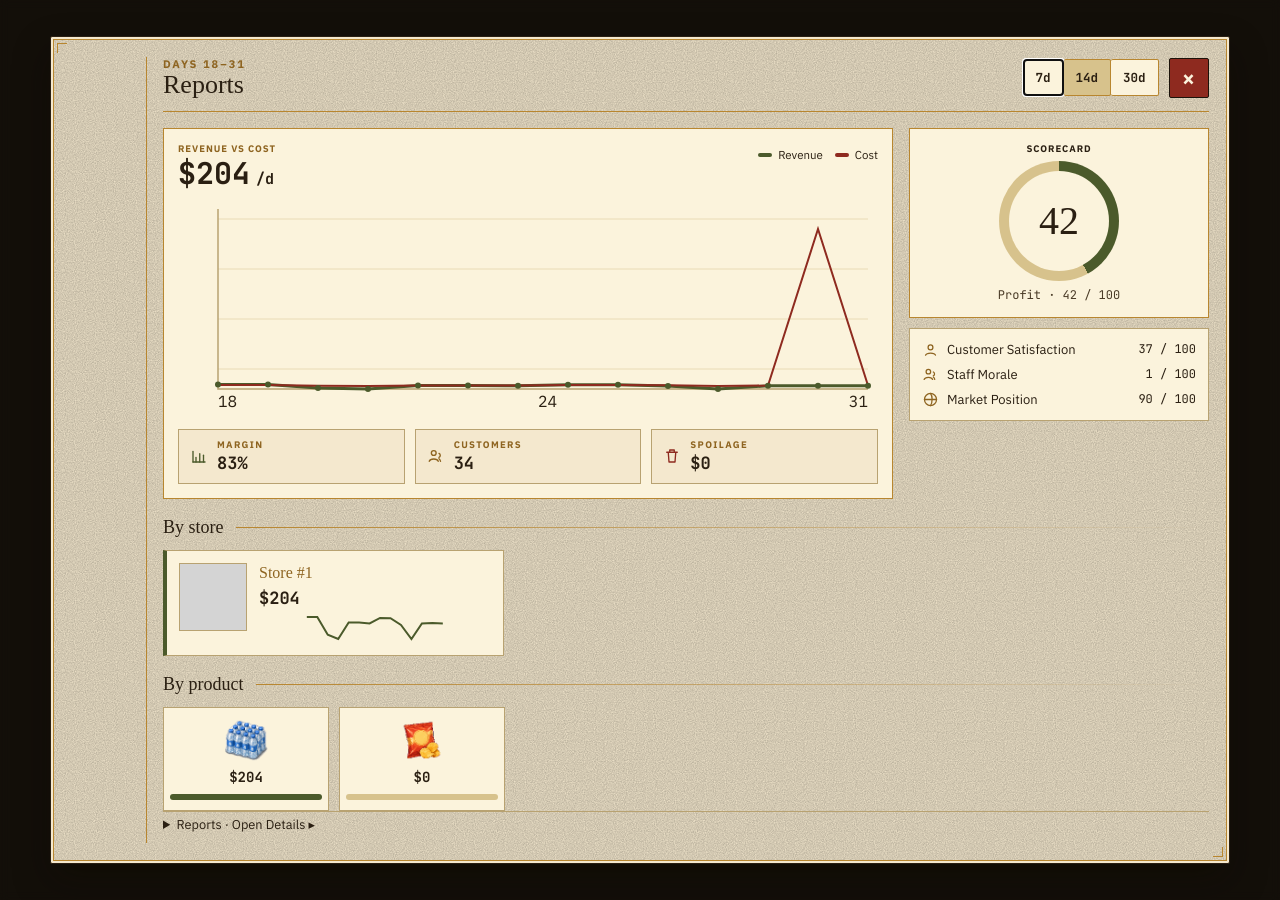
it: ManagementPanelHost › changes the report chart window from the tower header
The width and height of the screenshot is (1280, 900).
Expected: the text "Days 18–31" is shown, [163,57,246,71]
Expected: the element "7d" is shown, [163,57,1209,112]
Click the button "7d" at (1043,78), box [1023,59,1064,96]
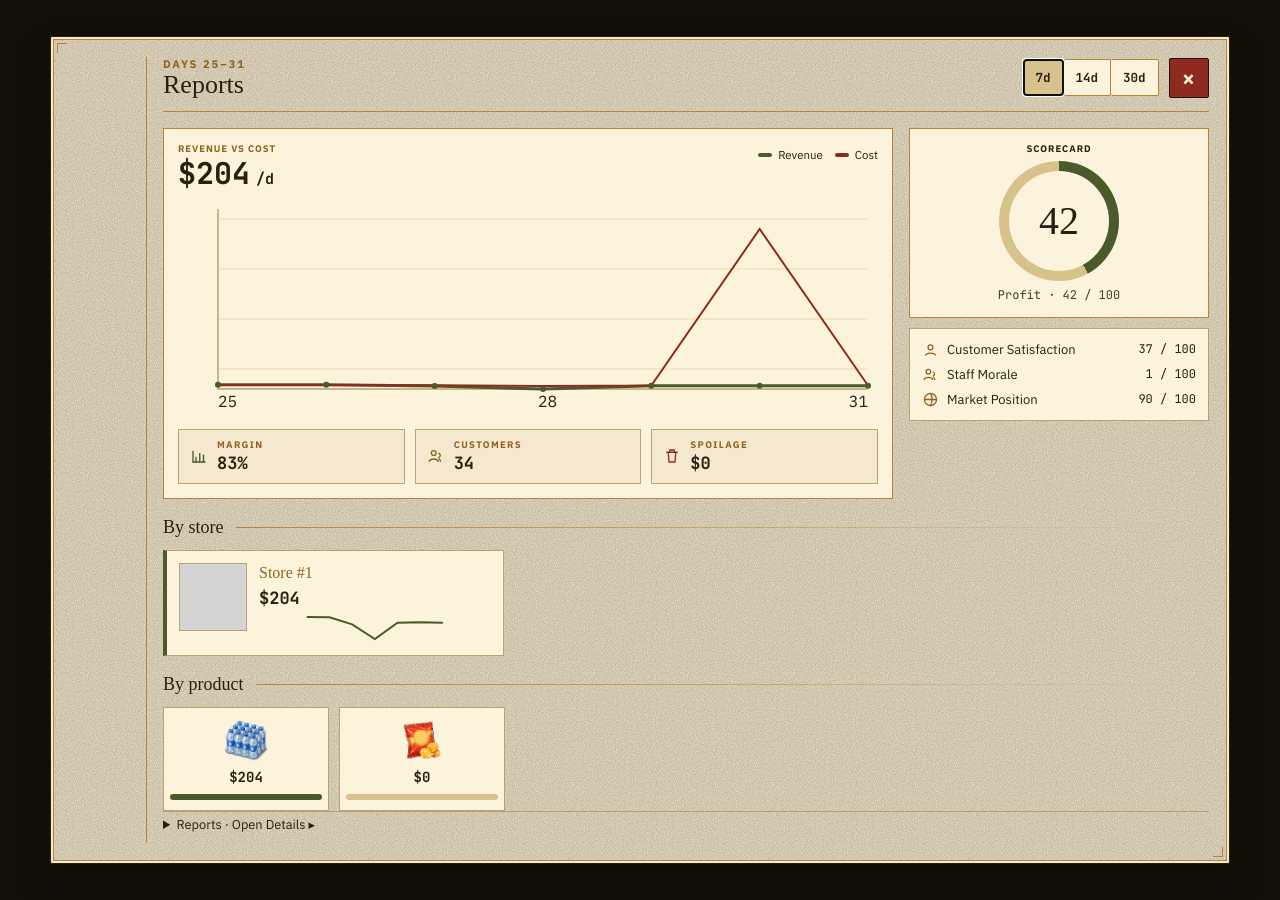
Expected: the text "Days 25–31" is shown, [163,57,246,71]
Click the button "30d" at (1135,78), box [1111,59,1159,96]
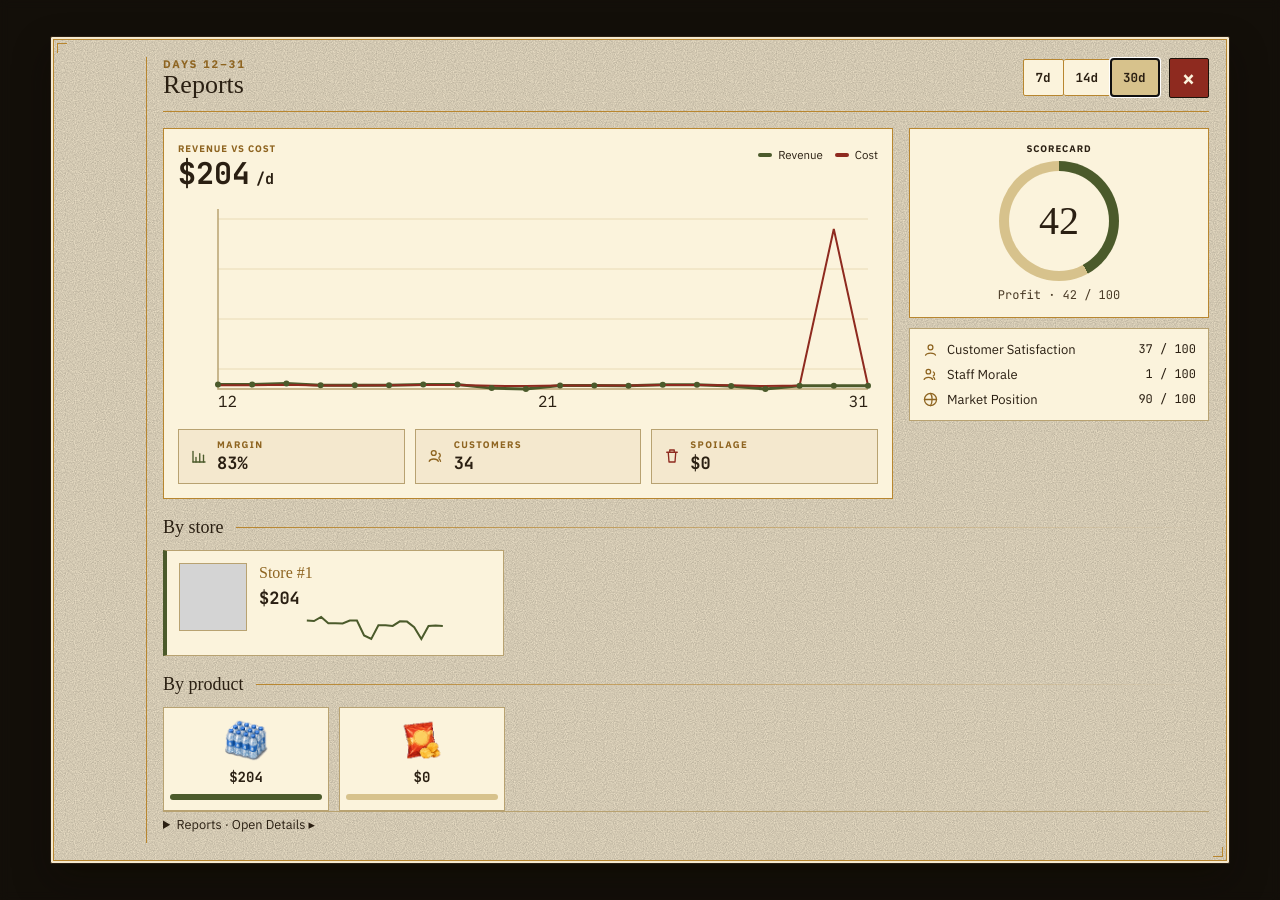
Expected: the text "Days 12–31" is shown, [163,57,246,71]
